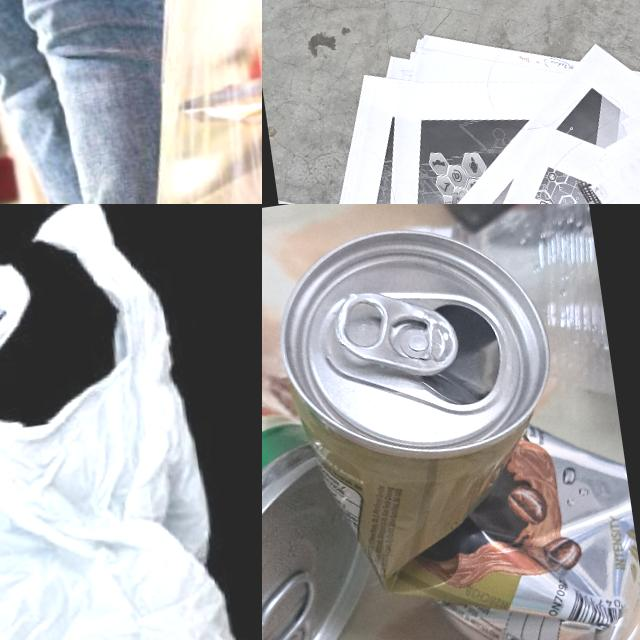aba de lata: (336, 277, 461, 381), (262, 570, 329, 640)
lata: (270, 204, 640, 640), (262, 303, 393, 640)
papel: (314, 0, 640, 204)
sacola plástica: (0, 204, 262, 640), (105, 0, 262, 204)
